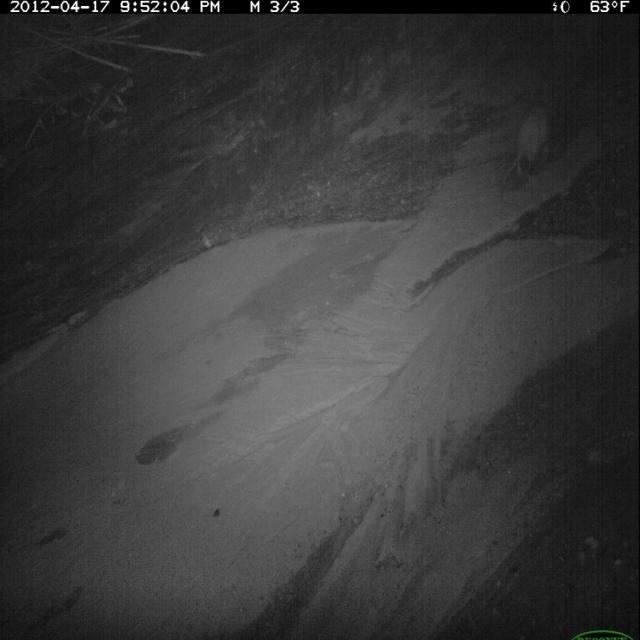opossum: (494, 92, 561, 199)
